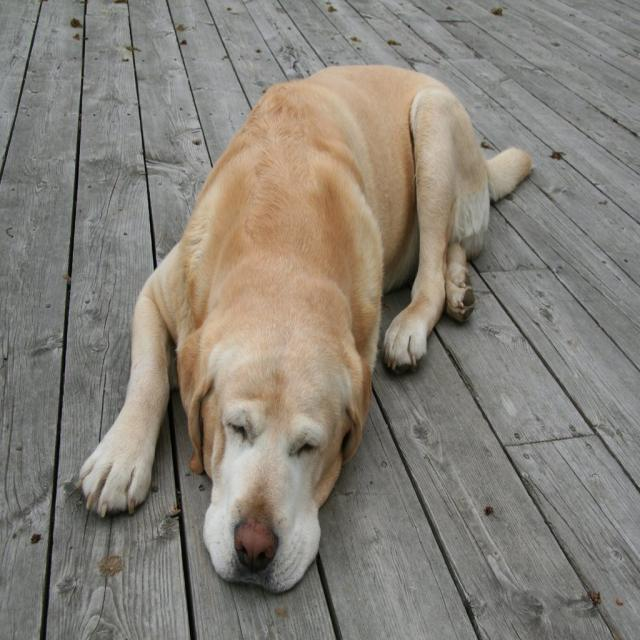Dog: (76, 63, 533, 596)
